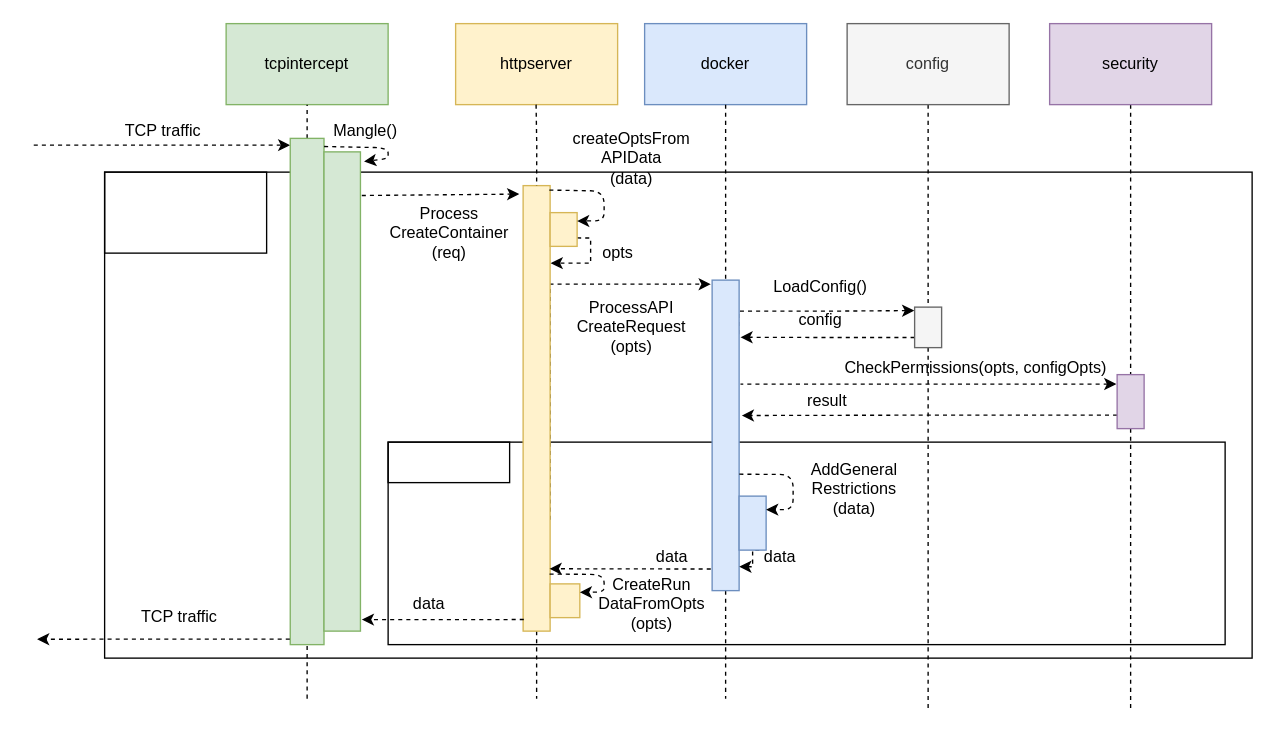
Some shapes in this 1276 by 737 pixel diagram are drawn without their labels. The shapes that lost their labels are listed below. From the top down, each one's centre as x and y in pixels, then its label:
At (x=185, y=212): "tcp.type == http && req.URL == /create/container".
At (x=448, y=462): "result == true".
